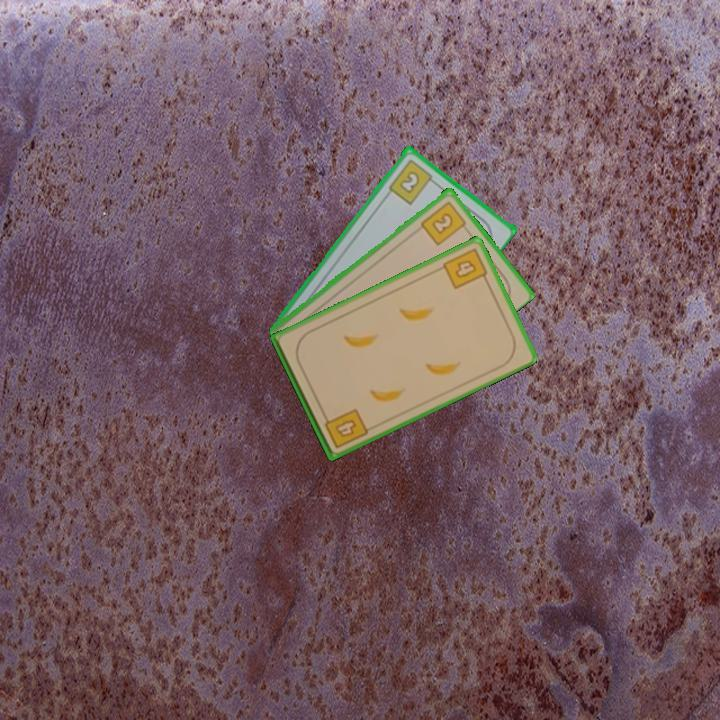2b: (385, 155, 439, 207), (417, 197, 471, 248)
4b: (439, 244, 491, 292), (320, 405, 371, 451)
